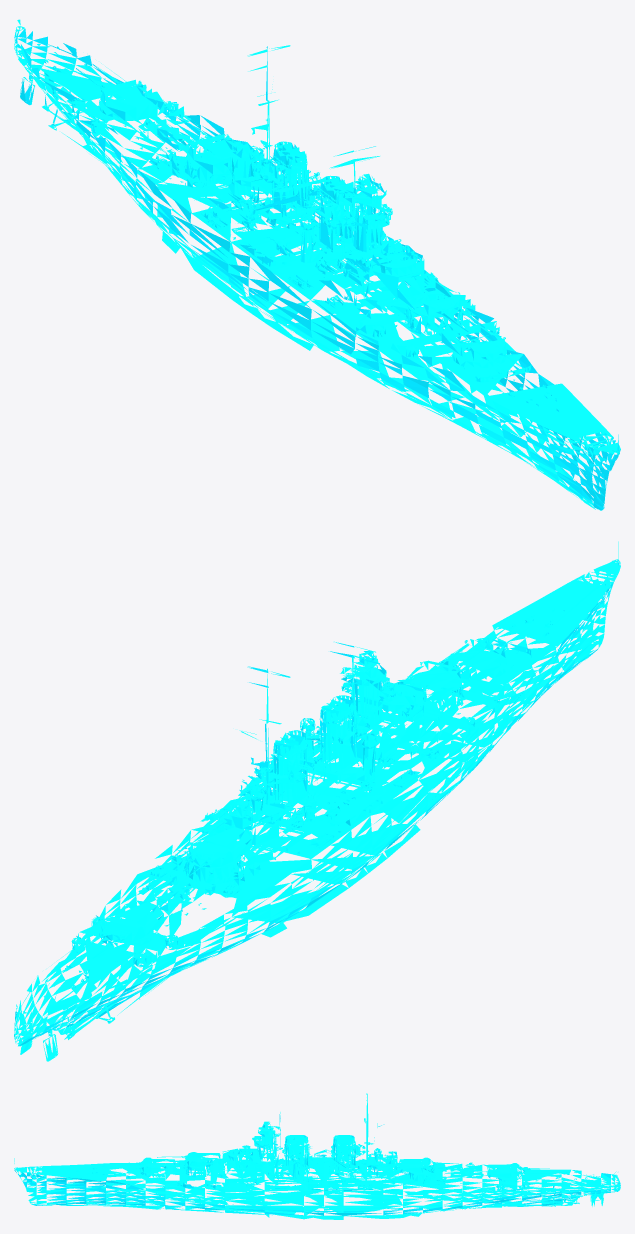
File: PGSB210.glb
3 views of the same model, one above another, from view 1: azimuth 30°, elevation 25°; view 2: azimuth 150°, elevation 25°; view 3: azimuth 270°, elevation 25° (orthographic). The views are drawn at different scales.
Visible parts, largest first — view 1: hull, turret; view 2: hull, turret; view 3: hull, turret.
Part boxes in pixels (x1=…): hull: x1=14, y1=19, x2=620, y2=510; turret: x1=72, y1=64, x2=527, y2=374; hull: x1=14, y1=541, x2=620, y2=1061; turret: x1=68, y1=623, x2=527, y2=966; hull: x1=14, y1=1093, x2=620, y2=1219; turret: x1=112, y1=1144, x2=550, y2=1190.
Bounding box in the file's own units: 2.27 × 3.83 × 18.8.
